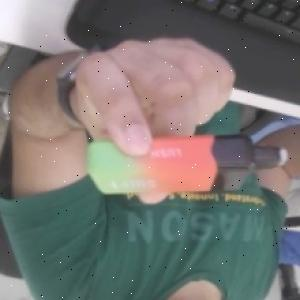Swift-E-Ciggirate: (83, 131, 292, 196)
